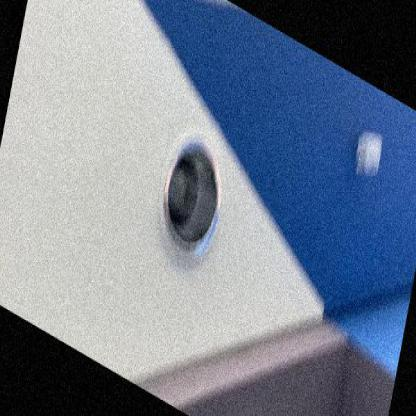light_off: (133, 85, 243, 299)
